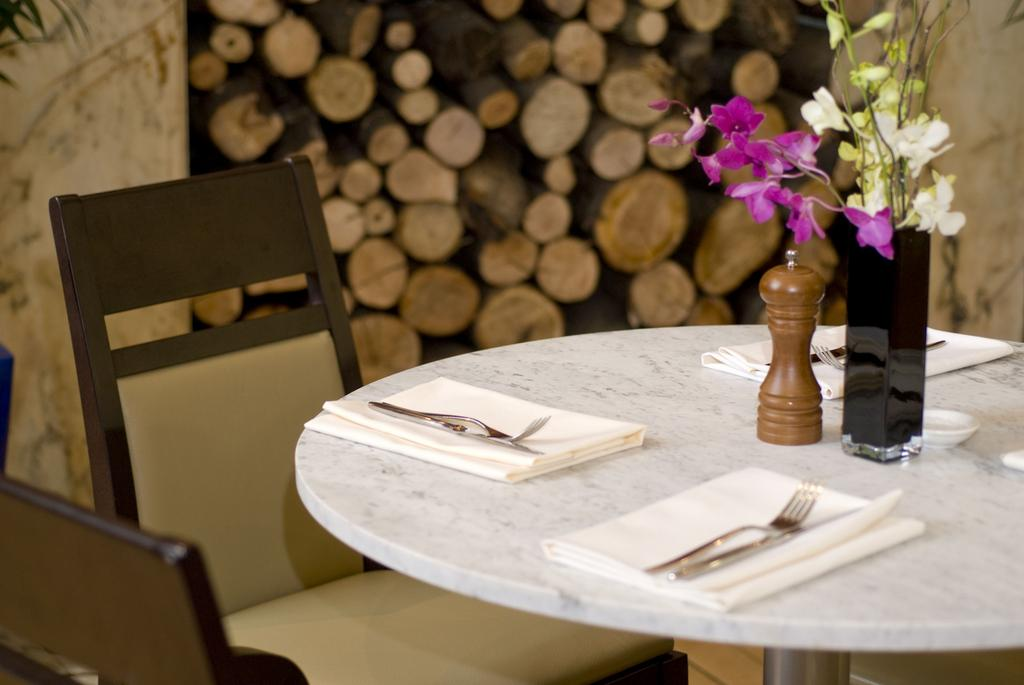Chair: (45, 143, 685, 684), (0, 333, 303, 684)
